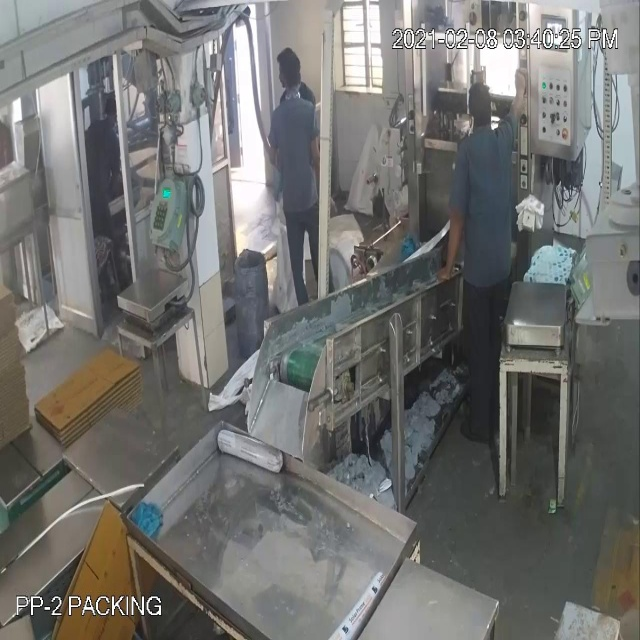Sin_guantes: (434, 187, 469, 294), (502, 67, 539, 140)
